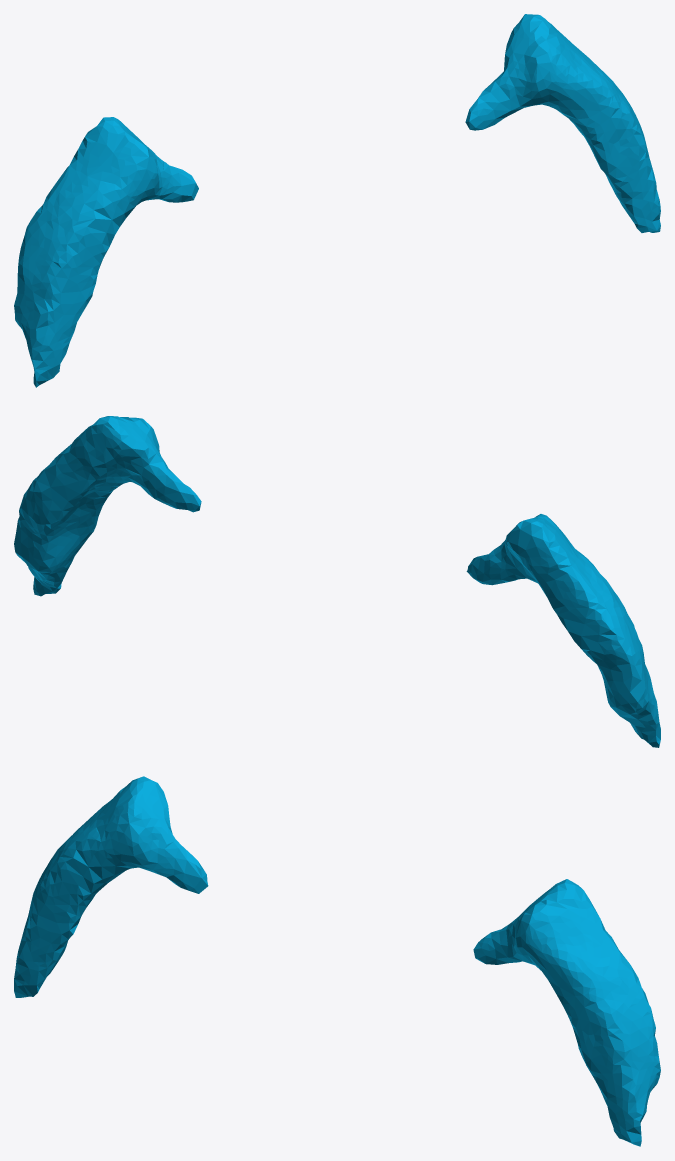
File: 2-6VC(F4)-area 6 of cortex, ventral part, caudal subdivision (Matellis F4)-('0.0000', '0.7686', '1.0000').obj
The picture shows the model from 3 angles, top to bottom: view 1: azimuth 30°, elevation 25°; view 2: azimuth 150°, elevation 25°; view 3: azimuth 330°, elevation 25°; orthographic projection.
Size of the model in its own units: 330 by 112 by 32.38.
